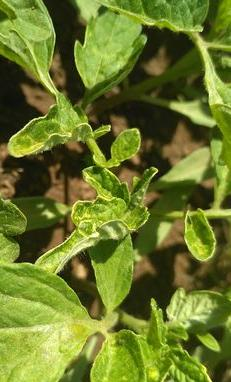Tomato leaf mosaic virus: (34, 164, 157, 273), (0, 262, 91, 382), (71, 4, 144, 111), (72, 216, 143, 310), (0, 105, 112, 163), (84, 326, 148, 382), (165, 285, 231, 336), (174, 206, 224, 267), (157, 345, 217, 382)
